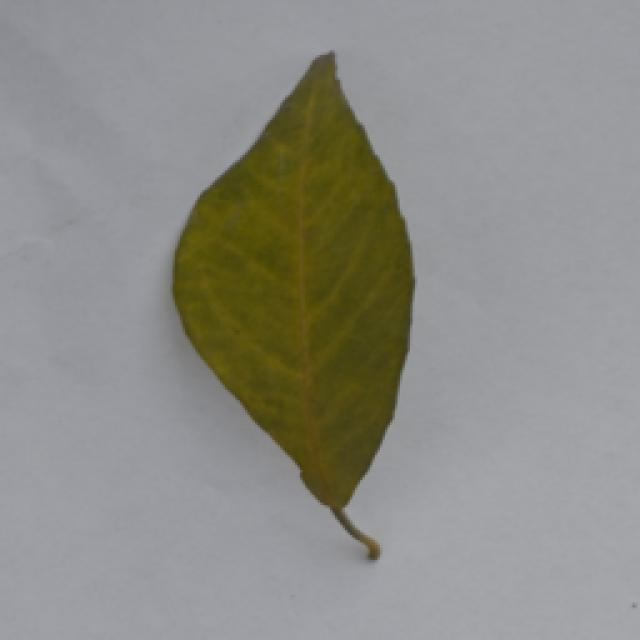greening: (114, 31, 449, 590)
